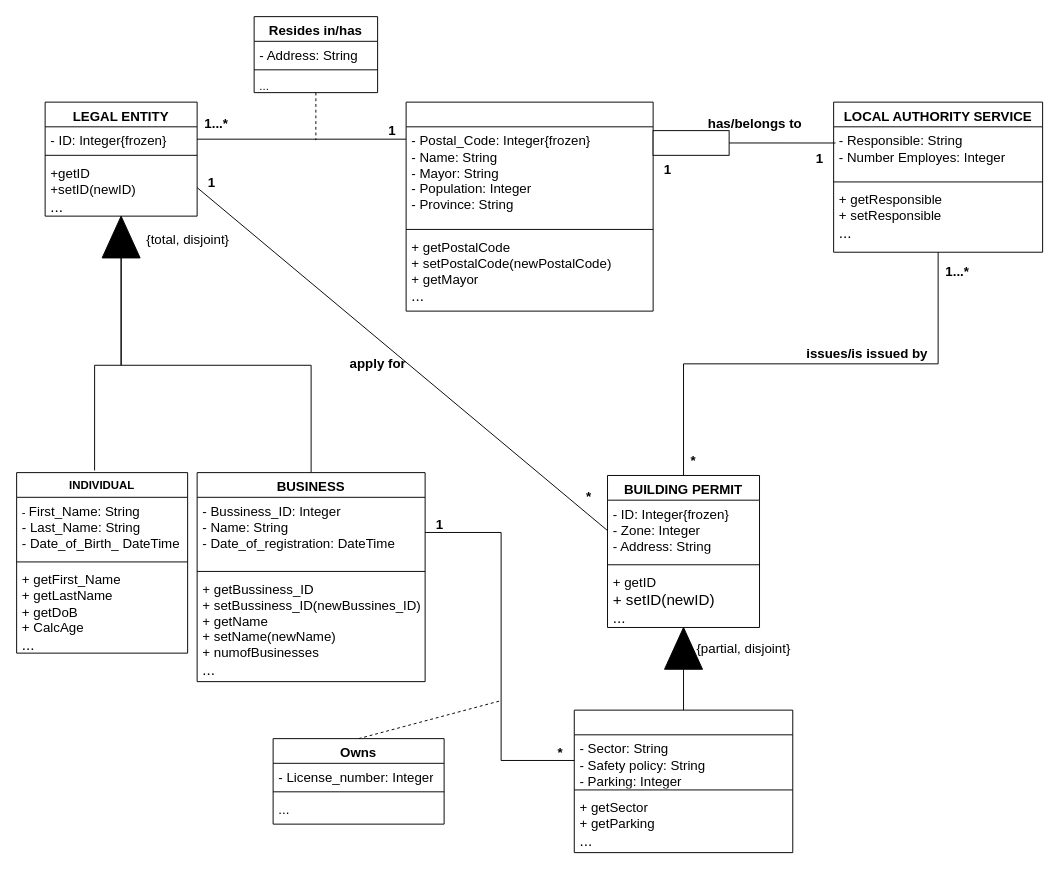
The diagram is 1059 pixels wide and 872 high, and some of its shapes have lost their labels. Each missing label, with the box of its shape:
CITY: (405, 101, 653, 311)
COMMERCIAL BUILDING PERMIT: (573, 709, 793, 853)
NAME: (652, 130, 729, 155)
